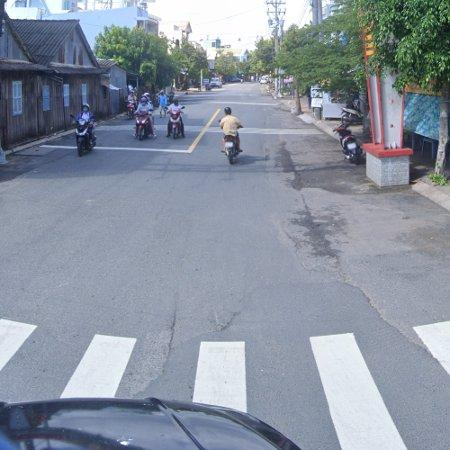crosswalks: (0, 317, 450, 450)
